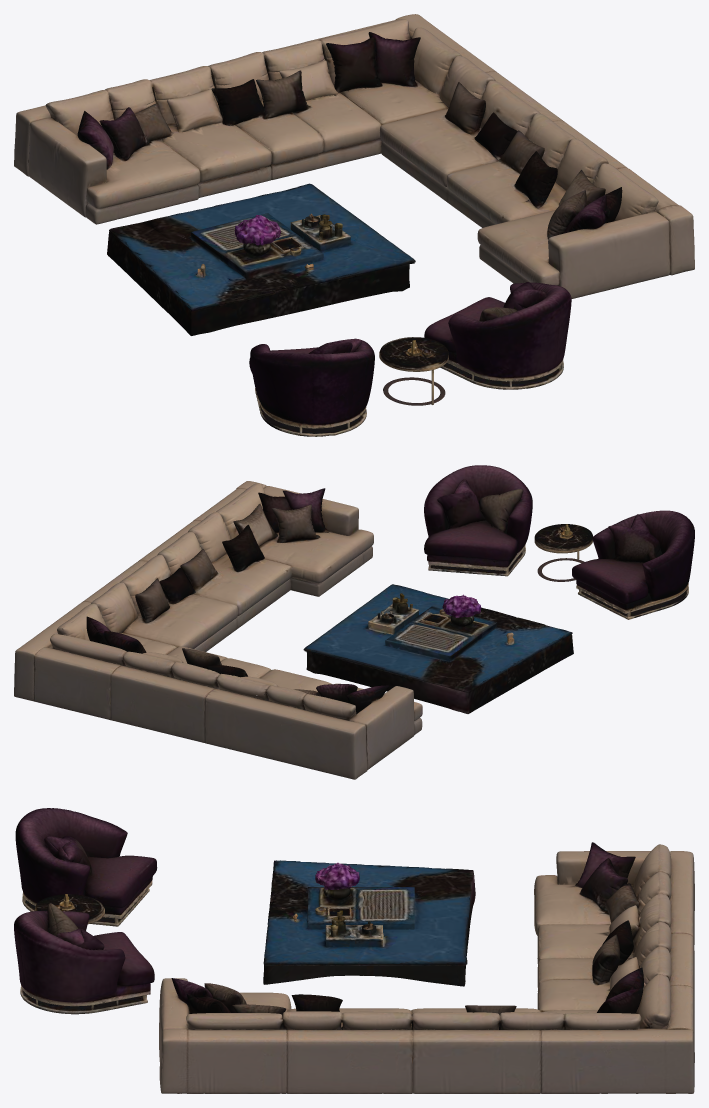
The model's file is skyline-suite-living-room.glb.
3 renders of one model, top to bottom at view 1: azimuth 30°, elevation 25°; view 2: azimuth 150°, elevation 25°; view 3: azimuth 270°, elevation 25°, orthographic. The views are drawn at different scales.
Visible parts, largest first — view 1: tripo_node_faae533e-0e56-4243-b58d-6af5fbf5319d; view 2: tripo_node_faae533e-0e56-4243-b58d-6af5fbf5319d; view 3: tripo_node_faae533e-0e56-4243-b58d-6af5fbf5319d.
Boxes of the visible parts, box(x1,y1,x2,y2) form: tripo_node_faae533e-0e56-4243-b58d-6af5fbf5319d: box(14, 14, 694, 436); tripo_node_faae533e-0e56-4243-b58d-6af5fbf5319d: box(14, 465, 694, 779); tripo_node_faae533e-0e56-4243-b58d-6af5fbf5319d: box(14, 808, 694, 1093).
Bounding box in the file's own units: 0.7665 × 0.1265 × 0.9795.
1 material, 1 textured.
